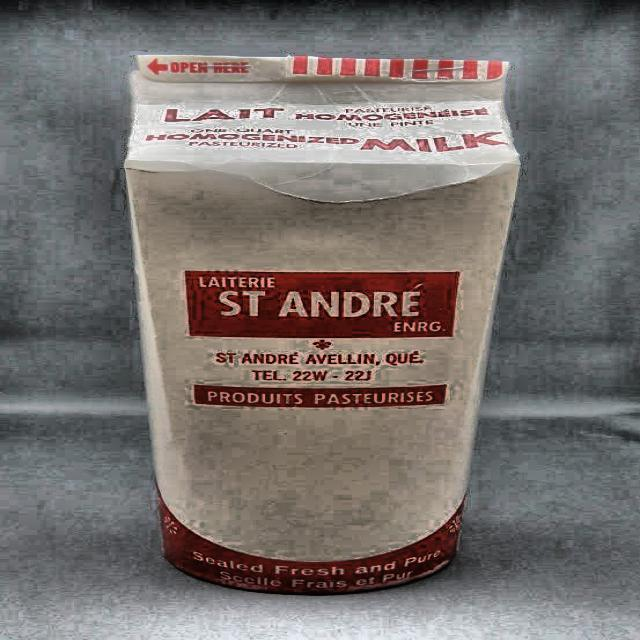cardboard: (121, 55, 522, 594)
